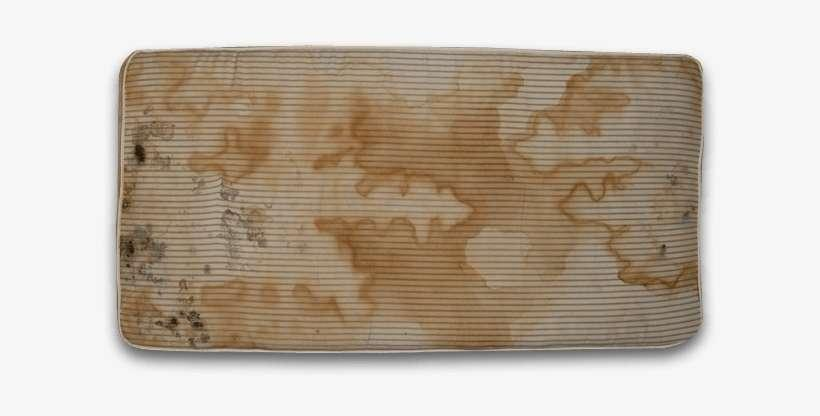Bed-Mattress: (79, 34, 733, 368)
